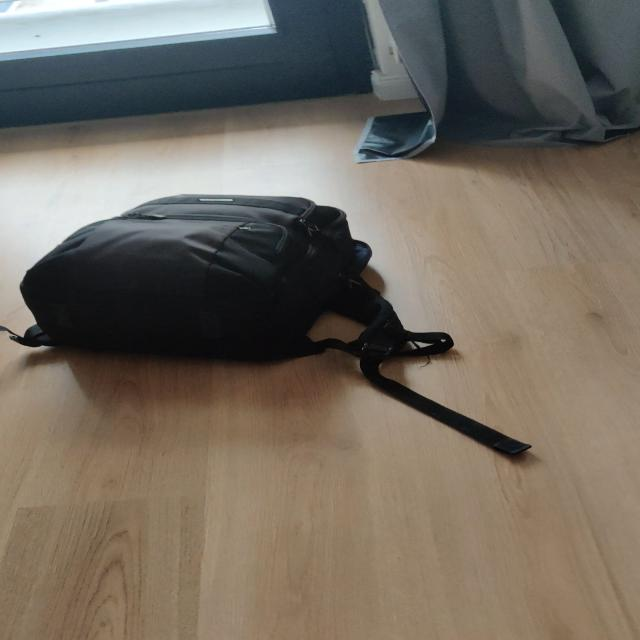backpack: (0, 188, 404, 368)
